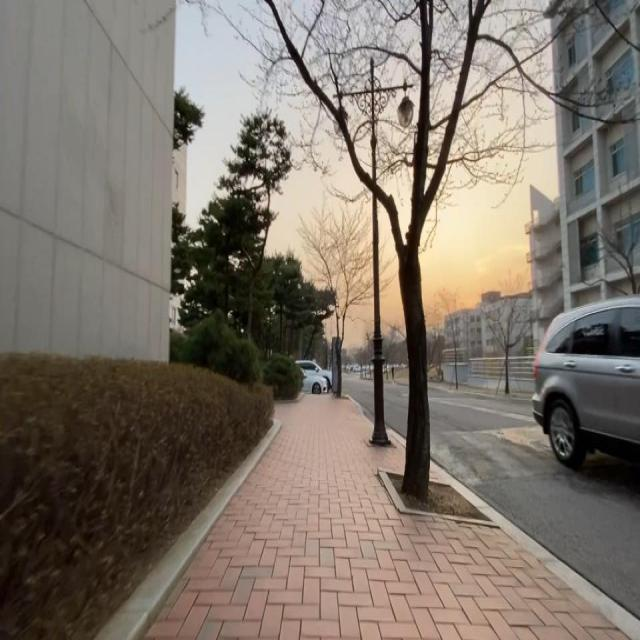sidewalk: (143, 395, 640, 640), (428, 382, 505, 395), (512, 392, 533, 398)
